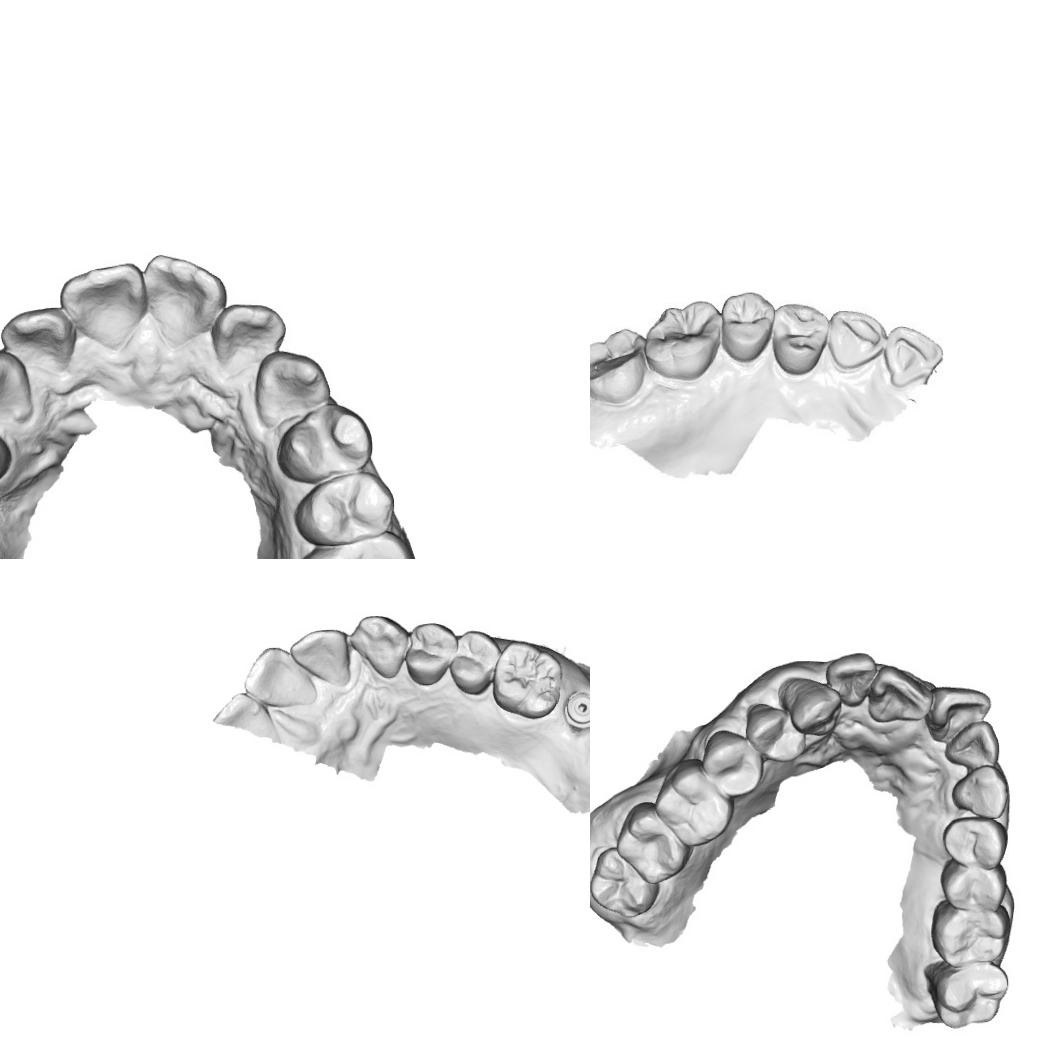canine: (255, 346, 331, 426), (778, 675, 842, 737), (352, 613, 408, 679), (950, 763, 1011, 819), (0, 349, 32, 425)
implant: (562, 689, 590, 732)
incisor: (143, 249, 227, 346), (62, 265, 144, 348), (217, 300, 288, 376), (0, 305, 75, 374), (866, 662, 934, 726), (242, 645, 310, 706), (926, 684, 993, 744), (289, 625, 350, 686), (944, 720, 1002, 772), (825, 652, 878, 708), (212, 690, 268, 739)
molar: (652, 757, 736, 848), (644, 295, 727, 384), (614, 800, 691, 886), (922, 958, 1011, 1030), (928, 896, 1012, 968), (491, 640, 563, 720), (590, 322, 655, 409), (590, 844, 660, 919), (300, 533, 415, 559)
premolar: (278, 402, 377, 484), (292, 472, 393, 546), (768, 298, 832, 378), (700, 728, 765, 798), (720, 290, 776, 366), (938, 856, 1008, 914), (940, 814, 1009, 872), (744, 701, 807, 764), (404, 621, 460, 686), (448, 629, 502, 695)
